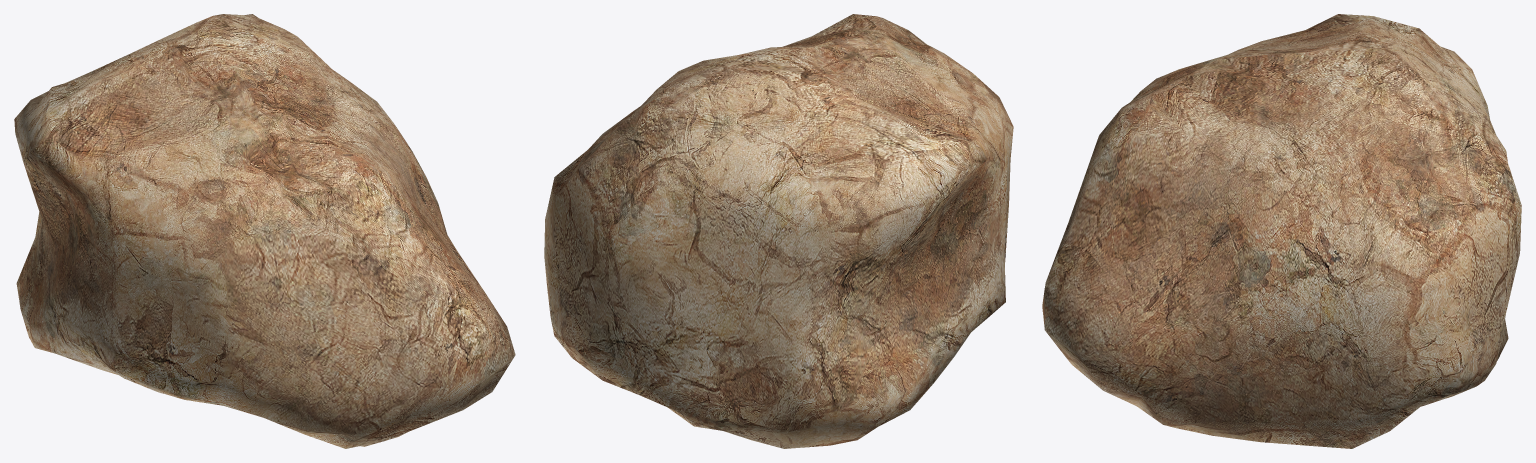
Rendered from rock-1-low-p.DAE.
The picture shows the model from 3 angles, left to right: view 1: azimuth 30°, elevation 25°; view 2: azimuth 150°, elevation 25°; view 3: azimuth 270°, elevation 25°; orthographic projection. The views are drawn at different scales.
Parts seen in each view (by area): view 1: sphere; view 2: sphere; view 3: sphere.
Part boxes in pixels (<box>): sphere: <box>14,14,515,448</box>; sphere: <box>544,14,1013,448</box>; sphere: <box>1042,14,1521,448</box>.
Bounding box in the file's own units: 1.86 × 2.11 × 1.66.
1 material, 1 textured.
